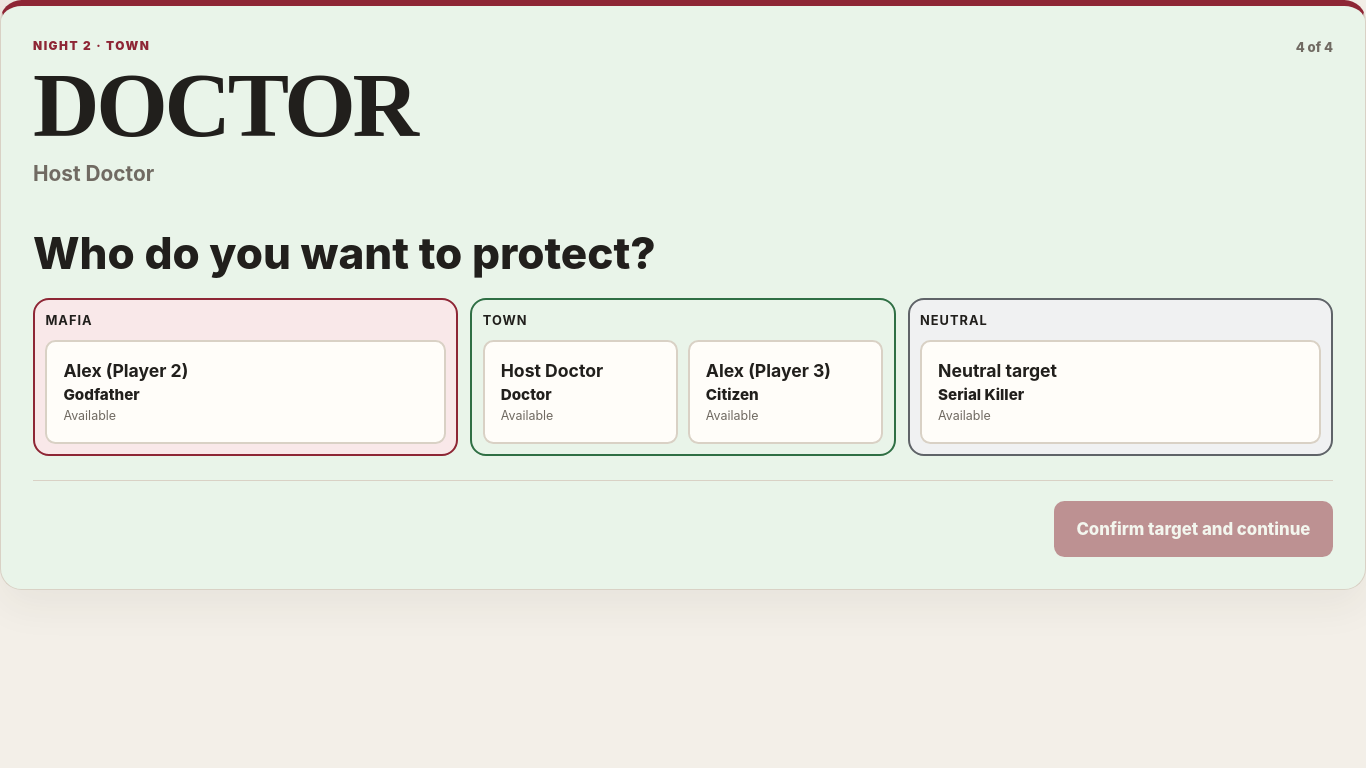
Test: sequential Night Runner UI › shows active roles in simultaneous alignment columns while preserving roster order
The image size is (1366, 768).
Check: the text "Night 2 · Town" is shown, box [33,39,150,53]
Check: the text "4 of 4" is shown, box [1296,38,1333,58]
Step 1. Click the button "Alex (Player 3) Citizen Available" → (786, 392), box [688,340,883,444]
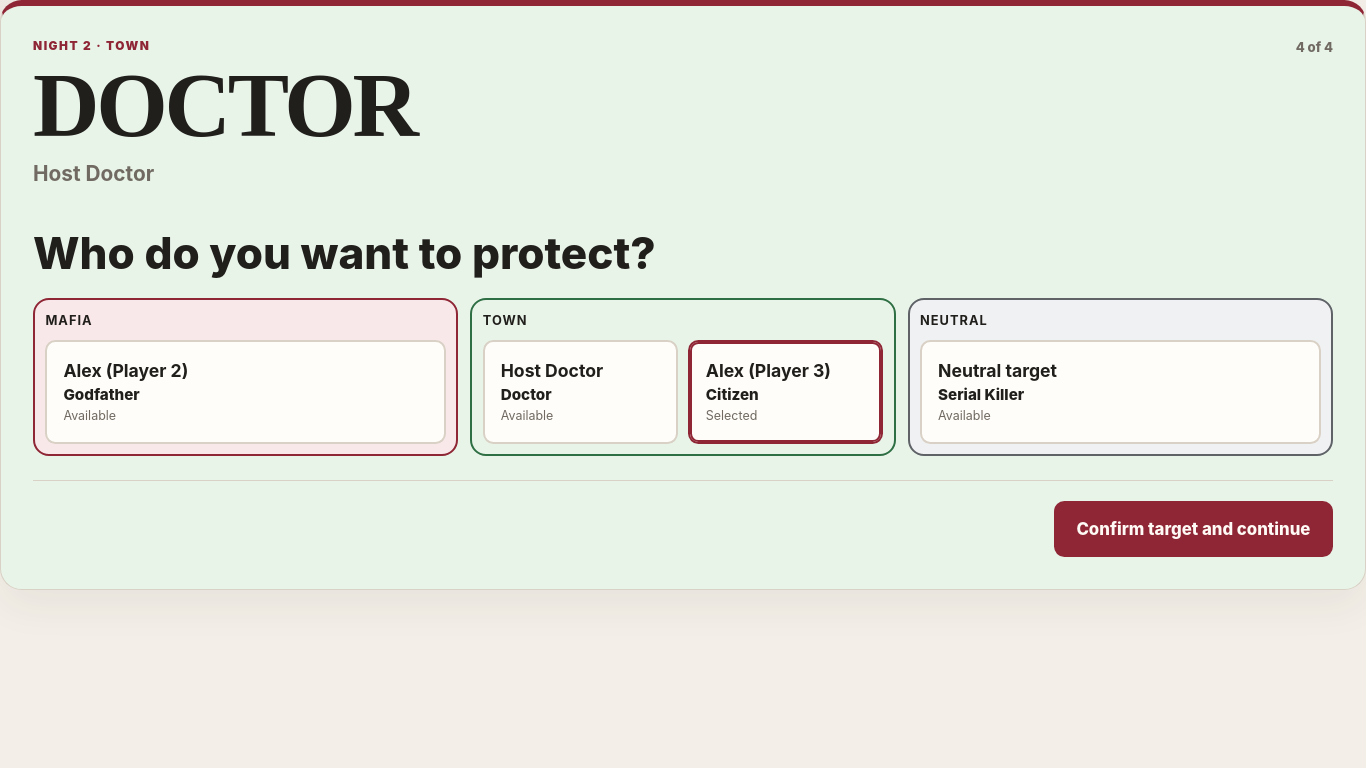
Check: the text "Selected" is shown, box [706,408,757,423]
